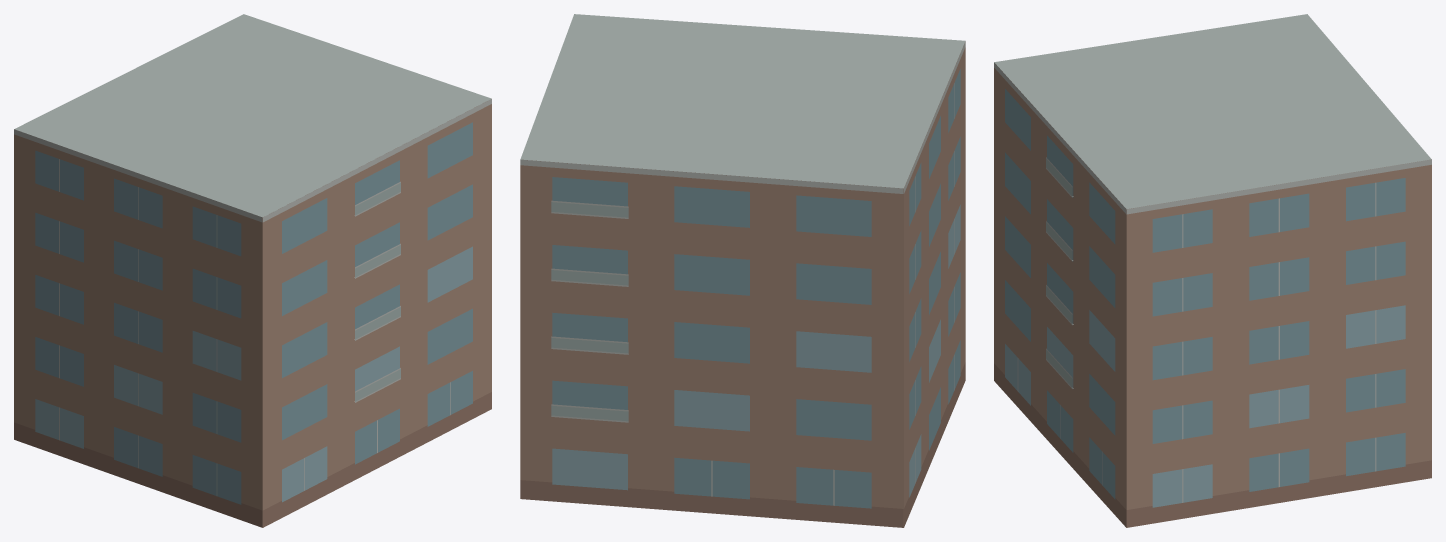
The model's file is survey-upis-32980756.glb.
The picture shows the model from 3 angles, left to right: view 1: azimuth 30°, elevation 25°; view 2: azimuth 150°, elevation 25°; view 3: azimuth 270°, elevation 25°; orthographic projection. The views are drawn at different scales.
Visible parts, largest first — view 1: survey-upis-32980756.tmp; view 2: survey-upis-32980756.tmp; view 3: survey-upis-32980756.tmp.
Boxes of the visible parts, x1=… form: survey-upis-32980756.tmp: x1=14, y1=14, x2=491, y2=527; survey-upis-32980756.tmp: x1=520, y1=14, x2=965, y2=527; survey-upis-32980756.tmp: x1=994, y1=14, x2=1431, y2=527.
Bounding box in the file's own units: 19.19 × 14.6 × 18.18.
